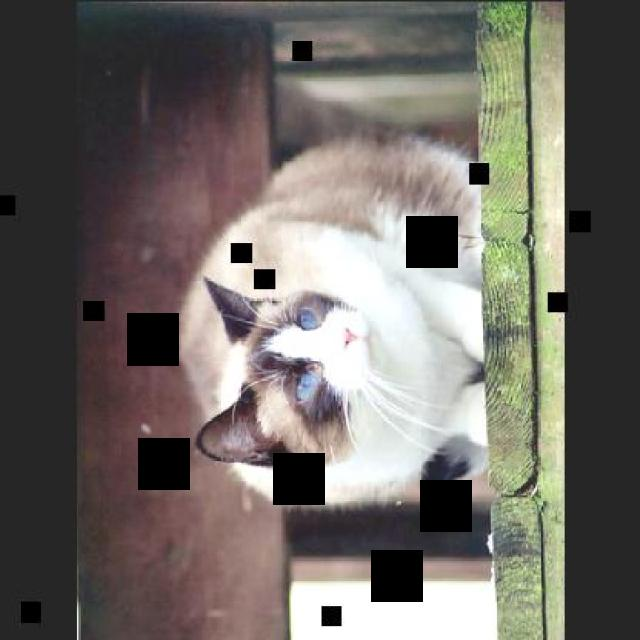unauthorized: (172, 128, 488, 510)
